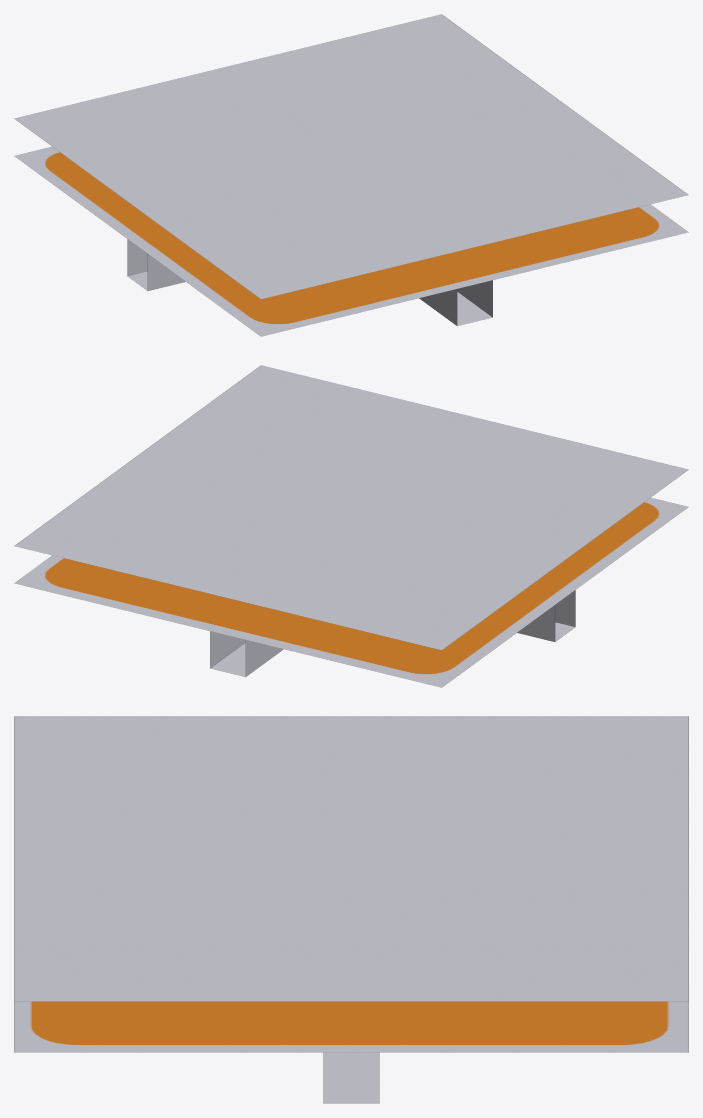
File: Roof_Normal_01_LP.FBX
3 views of the same model, one above another, from view 1: azimuth 30°, elevation 25°; view 2: azimuth 150°, elevation 25°; view 3: azimuth 270°, elevation 25° (orthographic). The views are drawn at different scales.
Parts seen in each view (by area): view 1: Roof_Normal_01_LP; view 2: Roof_Normal_01_LP; view 3: Roof_Normal_01_LP.
Boxes of the visible parts, left/top/right/bottom form: Roof_Normal_01_LP: left=14, top=14, right=688, bottom=336; Roof_Normal_01_LP: left=14, top=365, right=688, bottom=687; Roof_Normal_01_LP: left=14, top=716, right=688, bottom=1103.
Size of the model in its own units: 12 by 2 by 12.
